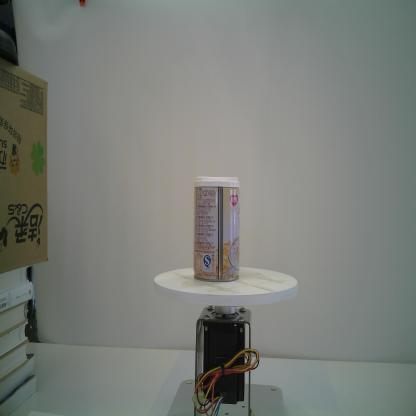Canned Food: (193, 176, 240, 281)
